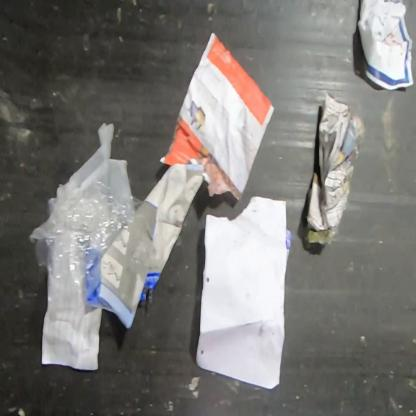soft_plastic: (28, 177, 146, 313)
